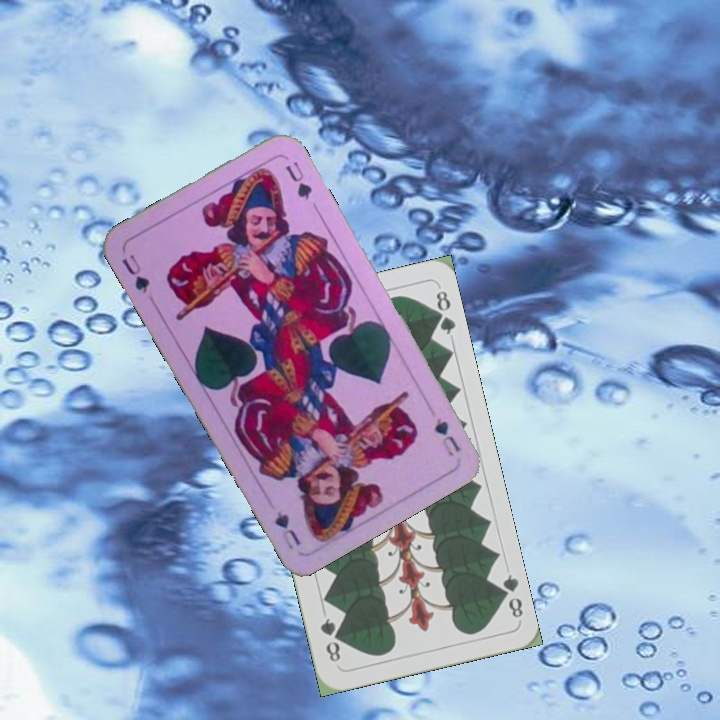G8: (493, 570, 526, 621)
GU: (117, 250, 153, 296), (430, 413, 463, 460)
